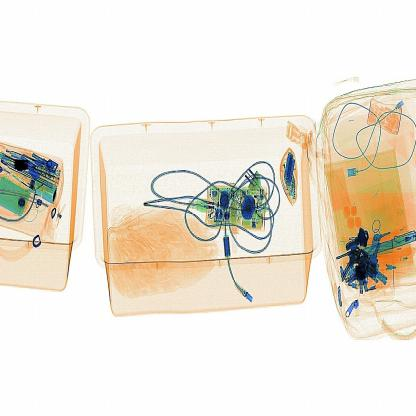scissors: (12, 154, 36, 181)
